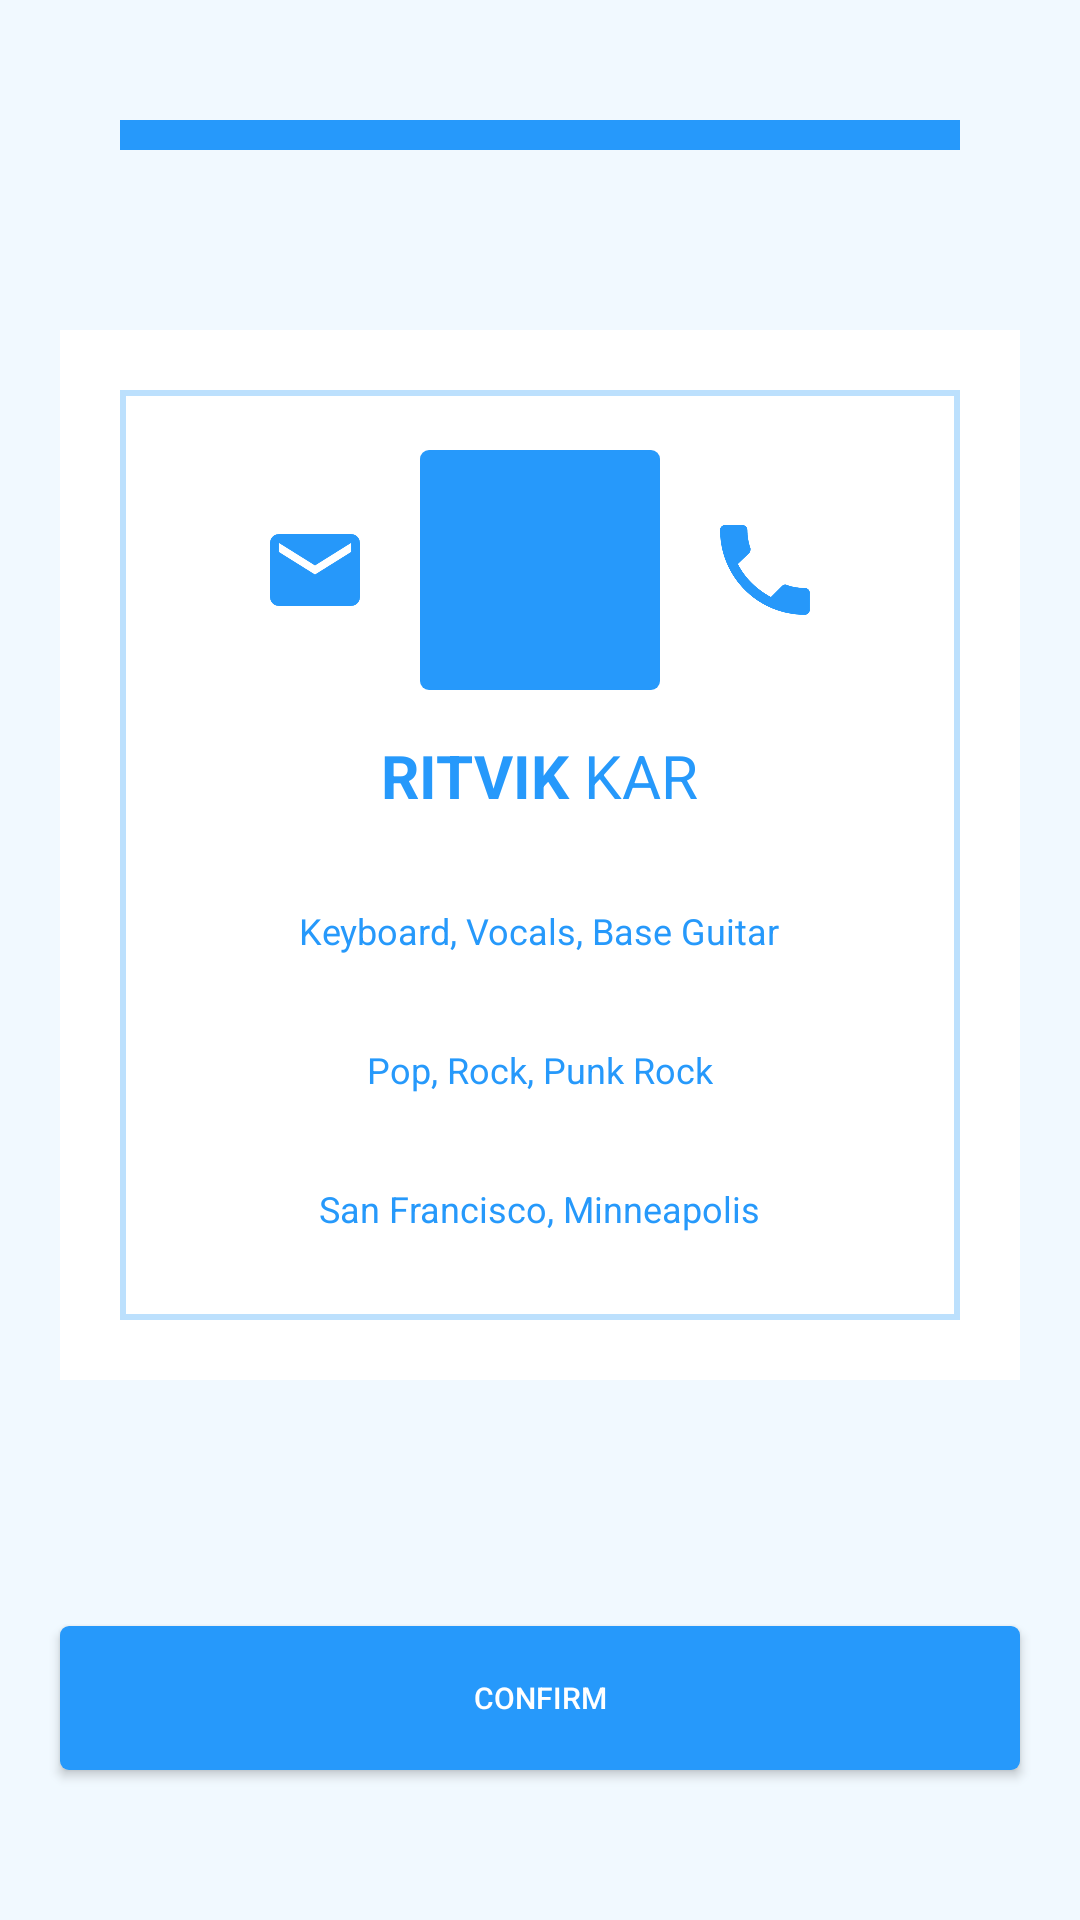

Icon click points for this 1080x1920 phone screenshot, format (x,y):
mail: (315,570)
phone: (765,570)
